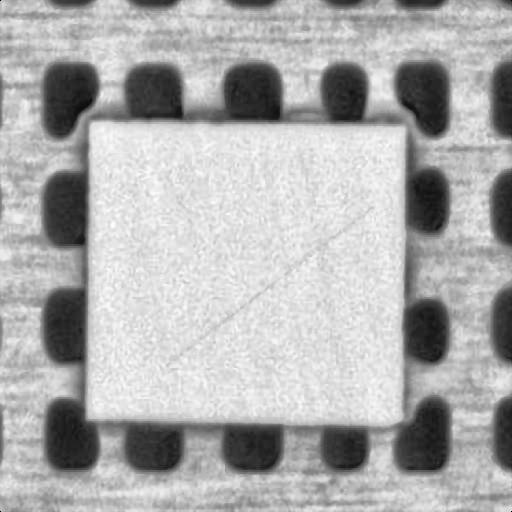DIE_CRACK: (218, 154, 494, 273)
